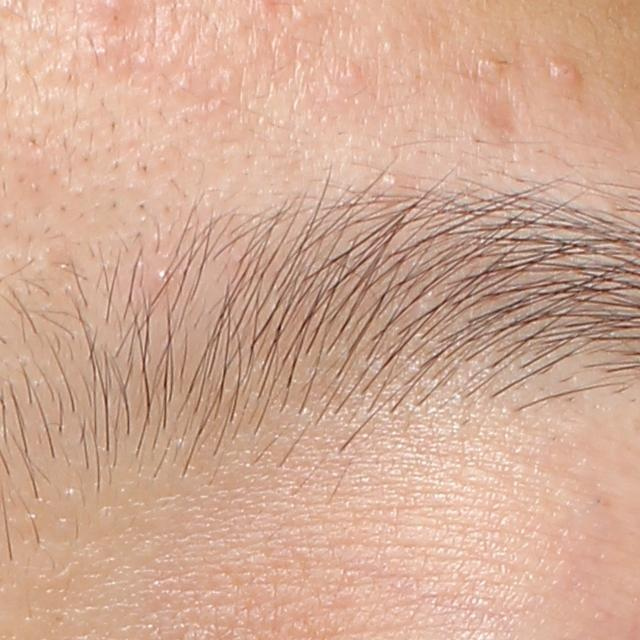comedo: (474, 48, 507, 75), (346, 63, 363, 84)
papule: (548, 57, 582, 87)
